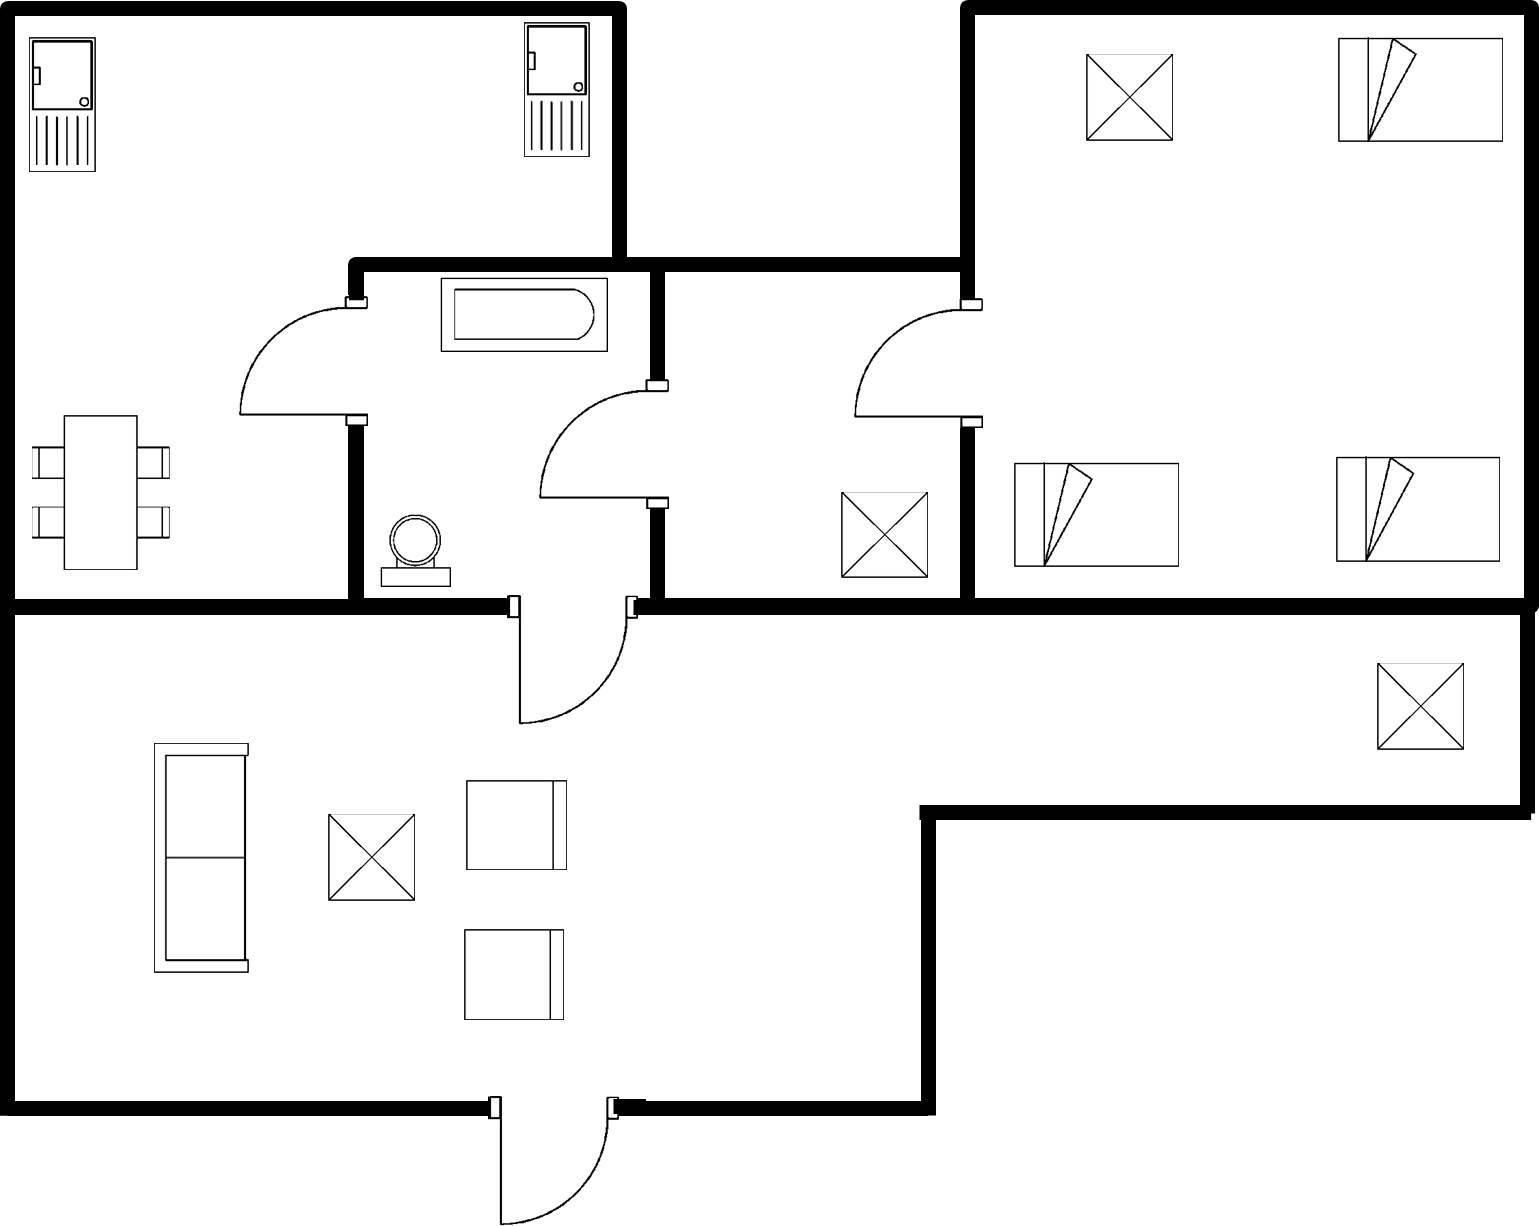bed: (1328, 447, 1511, 570), (1003, 452, 1191, 573), (1329, 29, 1510, 149)
dining_table: (25, 405, 176, 578)
sink: (20, 28, 103, 179), (519, 15, 591, 166)
sofa: (146, 734, 256, 980)
toilet: (372, 505, 467, 593)
tub: (428, 273, 617, 360)
